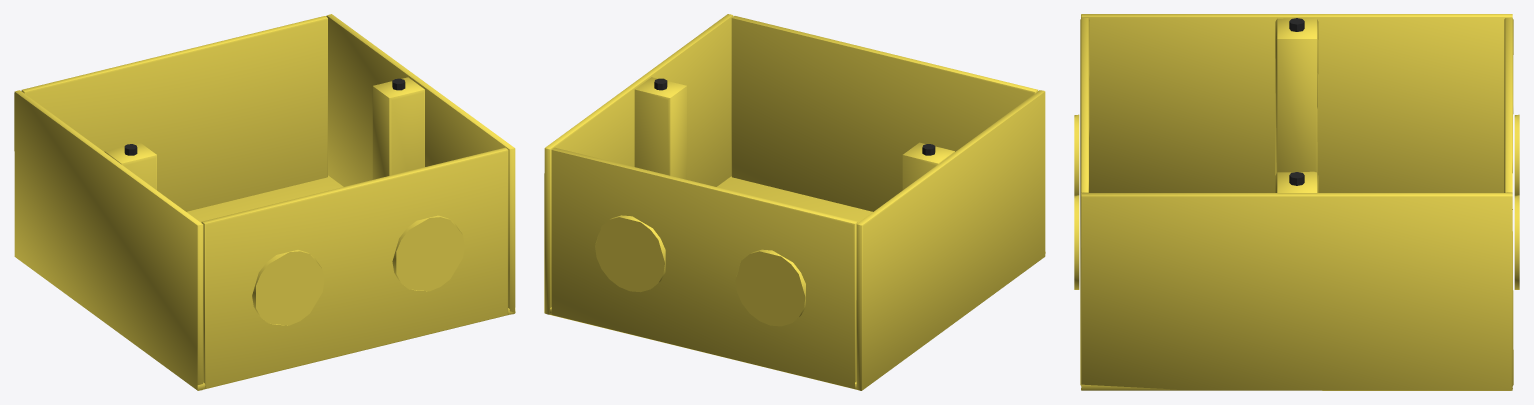
The model's file is ELE-CXA-002_lod1.glb.
3 renders of one model, left to right at view 1: azimuth 30°, elevation 25°; view 2: azimuth 150°, elevation 25°; view 3: azimuth 270°, elevation 25°, orthographic. The views are drawn at different scales.
Visible parts, largest first — view 1: ELE-CXA-002_ly-1, ELE-CXA-002_ly1, ELE-CXA-002_lx-1, ELE-CXA-002_lx1, ELE-CXA-002_orelha1, ELE-CXA-002_ko-1-1, ELE-CXA-002_ko-11, ELE-CXA-002_fundo, ELE-CXA-002_orelha-1; view 2: ELE-CXA-002_ly1, ELE-CXA-002_ly-1, ELE-CXA-002_lx-1, ELE-CXA-002_lx1, ELE-CXA-002_orelha1, ELE-CXA-002_ko11, ELE-CXA-002_ko1-1, ELE-CXA-002_fundo, ELE-CXA-002_orelha-1; view 3: ELE-CXA-002_lx1, ELE-CXA-002_lx-1, ELE-CXA-002_orelha-1, ELE-CXA-002_ly-1, ELE-CXA-002_ly1, ELE-CXA-002_orelha1, ELE-CXA-002_ko-11, ELE-CXA-002_ko11, ELE-CXA-002_fundo, ELE-CXA-002_ko1-1, ELE-CXA-002_ko-1-1.
Boxes of the visible parts, x1,y1,x2,y2 form: ELE-CXA-002_ly-1: (201, 147, 508, 388); ELE-CXA-002_ly1: (21, 16, 327, 211); ELE-CXA-002_lx-1: (14, 90, 203, 390); ELE-CXA-002_lx1: (326, 14, 515, 314); ELE-CXA-002_orelha1: (372, 77, 424, 179); ELE-CXA-002_ko-1-1: (252, 250, 324, 325); ELE-CXA-002_ko-11: (392, 215, 464, 291); ELE-CXA-002_fundo: (187, 175, 515, 390); ELE-CXA-002_orelha-1: (104, 142, 156, 189); ELE-CXA-002_ly1: (551, 147, 857, 388); ELE-CXA-002_ly-1: (731, 16, 1038, 211); ELE-CXA-002_lx-1: (856, 90, 1045, 390); ELE-CXA-002_lx1: (544, 14, 733, 314); ELE-CXA-002_orelha1: (634, 77, 686, 179); ELE-CXA-002_ko11: (595, 215, 665, 292); ELE-CXA-002_ko1-1: (735, 249, 805, 326); ELE-CXA-002_fundo: (549, 176, 1045, 389); ELE-CXA-002_orelha-1: (902, 142, 954, 189); ELE-CXA-002_lx1: (1081, 193, 1512, 390); ELE-CXA-002_lx-1: (1081, 14, 1512, 209); ELE-CXA-002_orelha-1: (1275, 18, 1318, 175); ELE-CXA-002_ly-1: (1080, 18, 1089, 385); ELE-CXA-002_ly1: (1504, 18, 1513, 385); ELE-CXA-002_orelha1: (1275, 171, 1318, 192); ELE-CXA-002_ko-11: (1074, 195, 1079, 289); ELE-CXA-002_ko11: (1514, 195, 1519, 289); ELE-CXA-002_fundo: (1081, 384, 1511, 390); ELE-CXA-002_ko1-1: (1514, 114, 1519, 195); ELE-CXA-002_ko-1-1: (1074, 114, 1079, 195).
Size of the model in its own units: 0.1 by 0.0515 by 0.1028.
